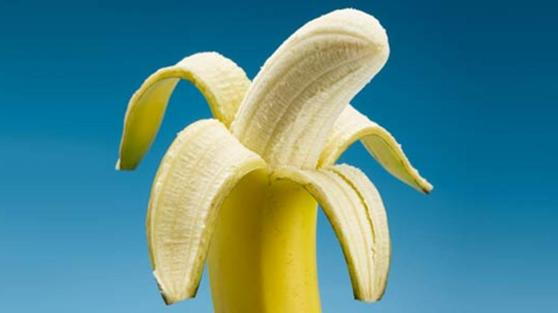banana: (166, 22, 405, 313)
